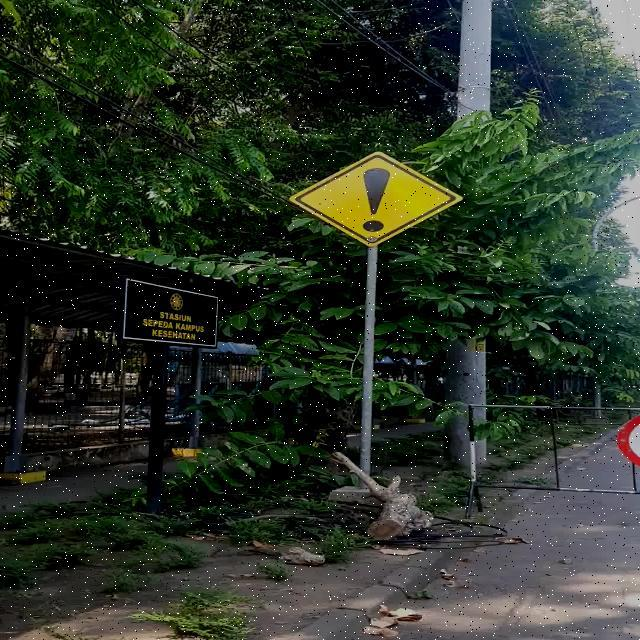Hati-Hati: (288, 151, 462, 247)
